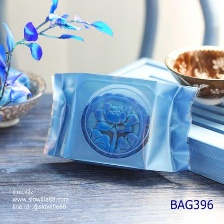snack: (35, 65, 205, 181)
